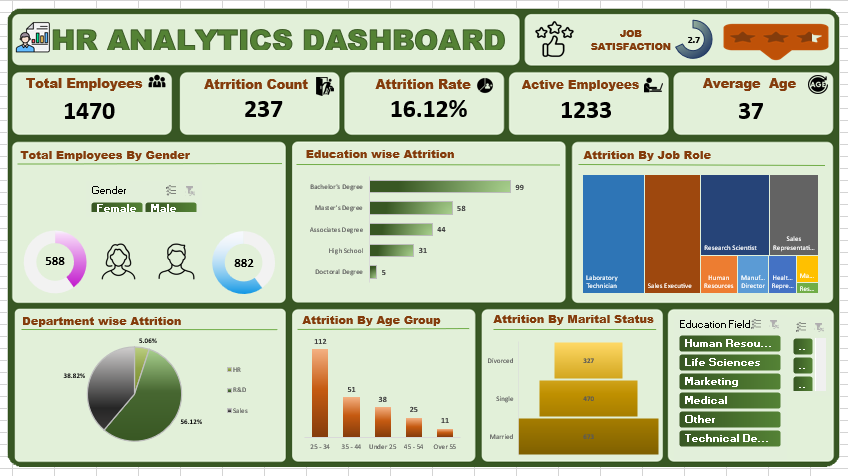

The page's visual inventory and layout, read from the dashboard file:
{"tool":"powerbi","page":{"name":"Page 1","canvas":[1920,1080],"ordinal":0},"visuals":[{"type":"card","title":"Overall Employees ","fields":{"Values":["Sum(HR data.Employee Count)"]},"box":[27.5,122.5,357.5,162.5],"z":0},{"type":"card","title":"Attrition ","fields":{"Values":["Sum(HR data.Attrition count)"]},"box":[405,122.5,357.5,160],"z":1000},{"type":"card","title":"Attrition Rate ","fields":{"Values":["HR data.Attrition Rate"]},"box":[782.5,122.5,357.5,162.5],"z":2000},{"type":"card","title":"Active Employees ","fields":{"Values":["HR data.Active Employees"]},"box":[1160,122.5,357.5,160],"z":3000},{"type":"card","title":"Average Age ","fields":{"Values":["Avg(HR data.Age)"]},"box":[1535,122.5,357.5,160],"z":4000},{"type":"pieChart","title":"Department wise Attrition","fields":{"Category":["HR data.Department"],"Y":["Sum(HR data.Attrition count)"]},"box":[27.5,302.5,572.5,375],"z":5000},{"type":"columnChart","title":"Number of Employee by Age Group ","fields":{"Category":["HR data.CF_age band"],"Series":["HR data.Gender"],"Y":["Sum(HR data.Employee Count)"]},"box":[627.5,302.5,572.5,375],"z":6000},{"type":"pivotTable","title":"Job Satisfaction Rating","fields":{"Columns":["HR data.Job Satisfaction"],"Rows":["HR data.Job Role"],"Values":["Sum(HR data.Employee Count)"]},"box":[1222.5,302.5,670,375],"z":7000},{"type":"barChart","title":"Education Field wise Attrition","fields":{"Category":["HR data.Education Field"],"Y":["Sum(HR data.Attrition count)"]},"box":[27.5,695,497.5,365],"z":8000},{"type":"donutChart","title":"Under 25","fields":{"Category":["HR data.Gender"],"Series":["HR data.CF_age band"],"Y":["Sum(HR data.Attrition count)"]},"box":[550,752.5,268,307.5],"z":9000},{"type":"textbox","title":"Attrition Rate By Gender for Diffrent Age Groupe","box":[550,695,1342.5,37.5],"z":10000},{"type":"donutChart","title":"35 - 44","fields":{"Category":["HR data.Gender"],"Series":["HR data.CF_age band"],"Y":["Sum(HR data.Attrition count)"]},"box":[1085,752.5,268,307.5],"z":11000},{"type":"donutChart","title":"25 - 34 ","fields":{"Category":["HR data.Gender"],"Series":["HR data.CF_age band"],"Y":["Sum(HR data.Attrition count)"]},"box":[817.5,752.5,268,307.5],"z":12000},{"type":"donutChart","title":"45 - 54","fields":{"Category":["HR data.Gender"],"Series":["HR data.CF_age band"],"Y":["Sum(HR data.Attrition count)"]},"box":[1352.5,752.5,268,307.5],"z":13000},{"type":"donutChart","title":"Over 55","fields":{"Category":["HR data.Gender"],"Series":["HR data.CF_age band"],"Y":["Sum(HR data.Attrition count)"]},"box":[1620,752.5,268,307.5],"z":14000},{"type":"textbox","title":"HR ANALYTICS DASHBOARD","box":[26,4,790,103],"z":15000},{"type":"slicer","fields":{"Values":["HR data.Education"]},"box":[817.5,5,1075,102.5],"z":15001}]}

Visuals, with their boxes in screenshot pixels (x1, y1, x2, y2), scaled from the page's 1920x1080 canvas onto the 848x476 screenshot:
"Overall Employees " card: x1=12, y1=54, x2=170, y2=126
"Attrition " card: x1=179, y1=54, x2=337, y2=125
"Attrition Rate " card: x1=346, y1=54, x2=504, y2=126
"Active Employees " card: x1=512, y1=54, x2=670, y2=125
"Average Age " card: x1=678, y1=54, x2=836, y2=125
"Department wise Attrition" pieChart: x1=12, y1=133, x2=265, y2=299
"Number of Employee by Age Group " columnChart: x1=277, y1=133, x2=530, y2=299
"Job Satisfaction Rating" pivotTable: x1=540, y1=133, x2=836, y2=299
"Education Field wise Attrition" barChart: x1=12, y1=306, x2=232, y2=467
"Under 25" donutChart: x1=243, y1=332, x2=361, y2=467
"Attrition Rate By Gender for Diffrent Age Groupe" textbox: x1=243, y1=306, x2=836, y2=323
"35 - 44" donutChart: x1=479, y1=332, x2=598, y2=467
"25 - 34 " donutChart: x1=361, y1=332, x2=479, y2=467
"45 - 54" donutChart: x1=597, y1=332, x2=716, y2=467
"Over 55" donutChart: x1=716, y1=332, x2=834, y2=467
"HR ANALYTICS DASHBOARD" textbox: x1=11, y1=2, x2=360, y2=47
slicer - HR data.Education: x1=361, y1=2, x2=836, y2=47
